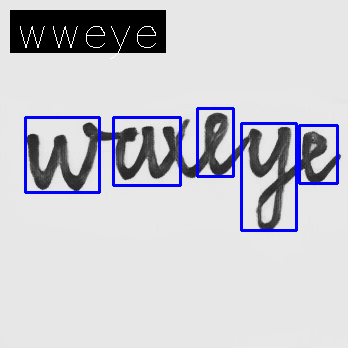a: (112, 123, 157, 183)
e: (299, 127, 343, 186), (198, 110, 233, 178)
w: (24, 123, 99, 193)
x: (159, 116, 192, 181)
y: (243, 124, 293, 233)
